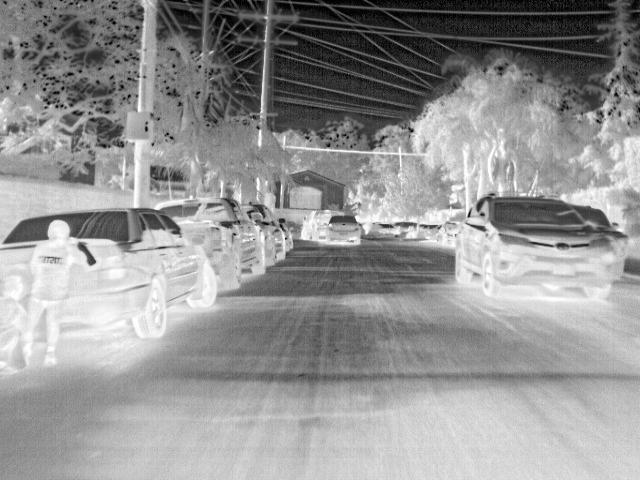car: (1, 207, 216, 341), (456, 196, 620, 300), (154, 198, 264, 290), (567, 206, 629, 278), (236, 204, 288, 262), (322, 213, 360, 241), (300, 209, 331, 241), (437, 220, 463, 246), (392, 220, 418, 234), (380, 222, 394, 236)
person: (32, 219, 76, 368), (2, 274, 28, 373)
